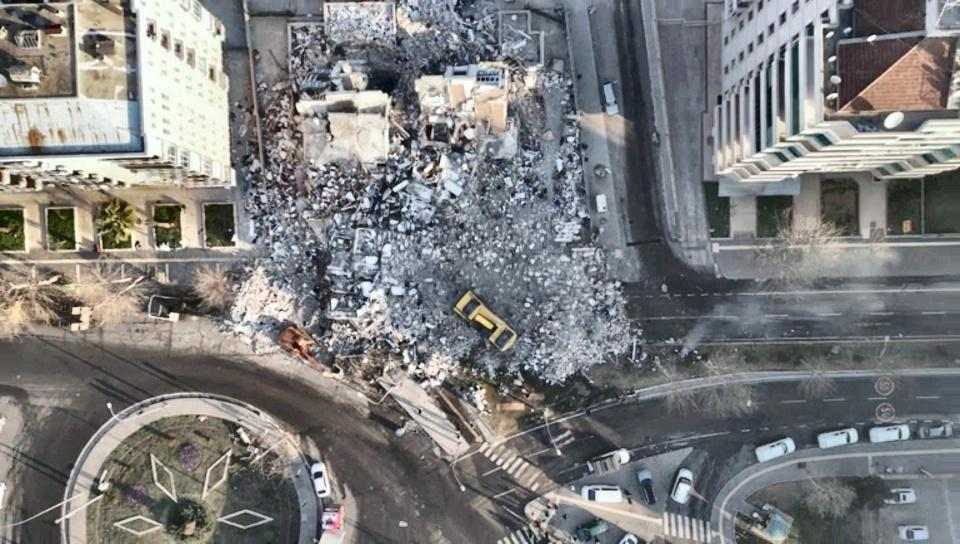kapali: (382, 295, 694, 346)
